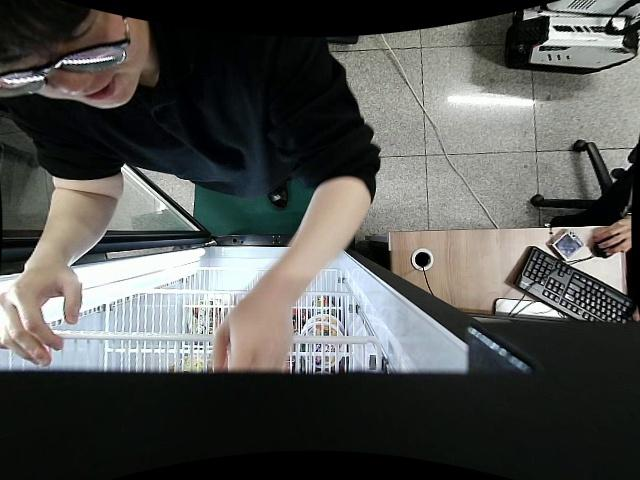00_hand: (0, 259, 81, 366), (211, 303, 297, 378)
